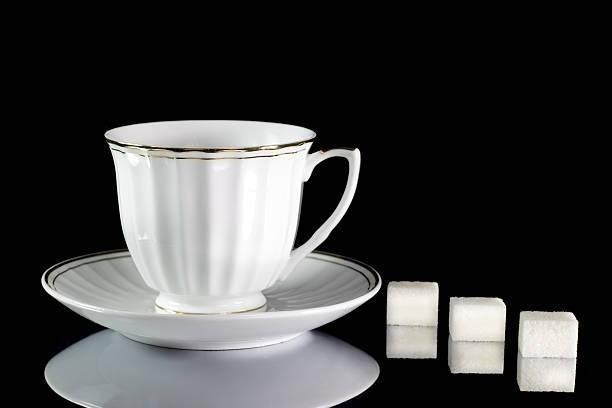cup-handle: (103, 117, 362, 316)
